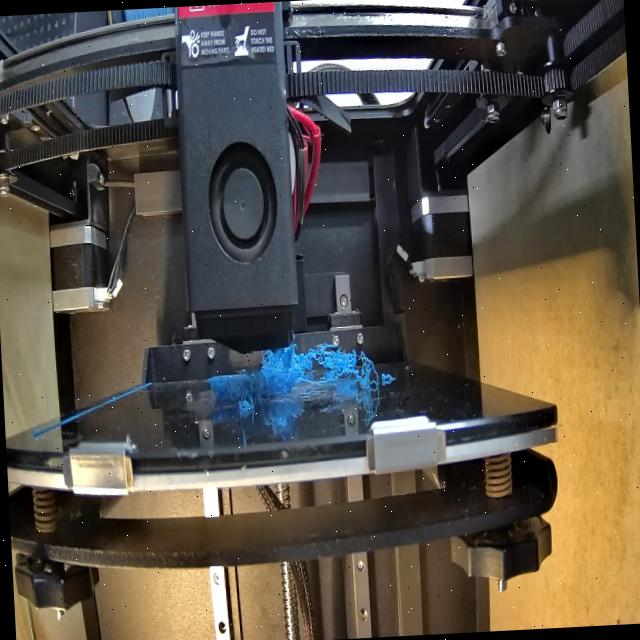spaghetti: (253, 345, 374, 398), (227, 374, 272, 416)
